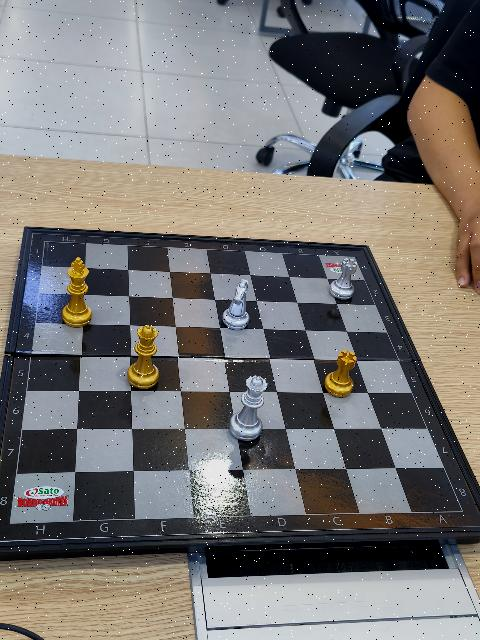black_king: (61, 256, 93, 328)
black_queen: (127, 326, 161, 392)
black_rook: (323, 350, 359, 400)
white_knight: (220, 278, 251, 332)
white_queen: (229, 376, 269, 443)
white_rook: (330, 257, 358, 299)
